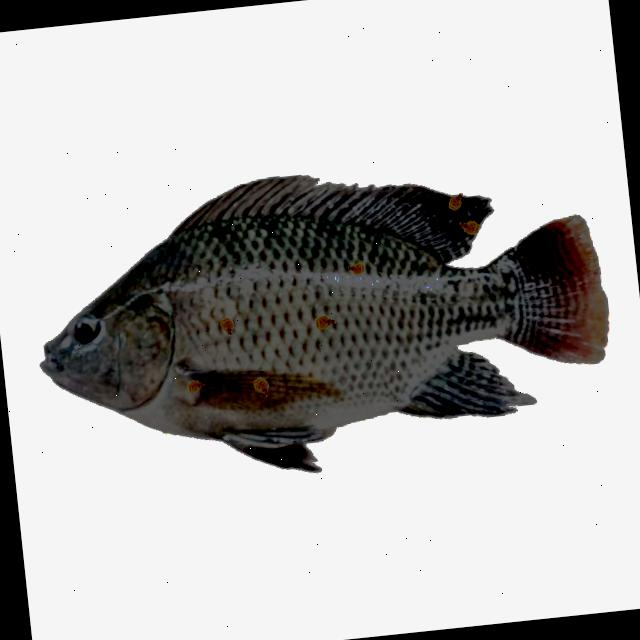Parasitic Disease: (42, 177, 606, 471)
